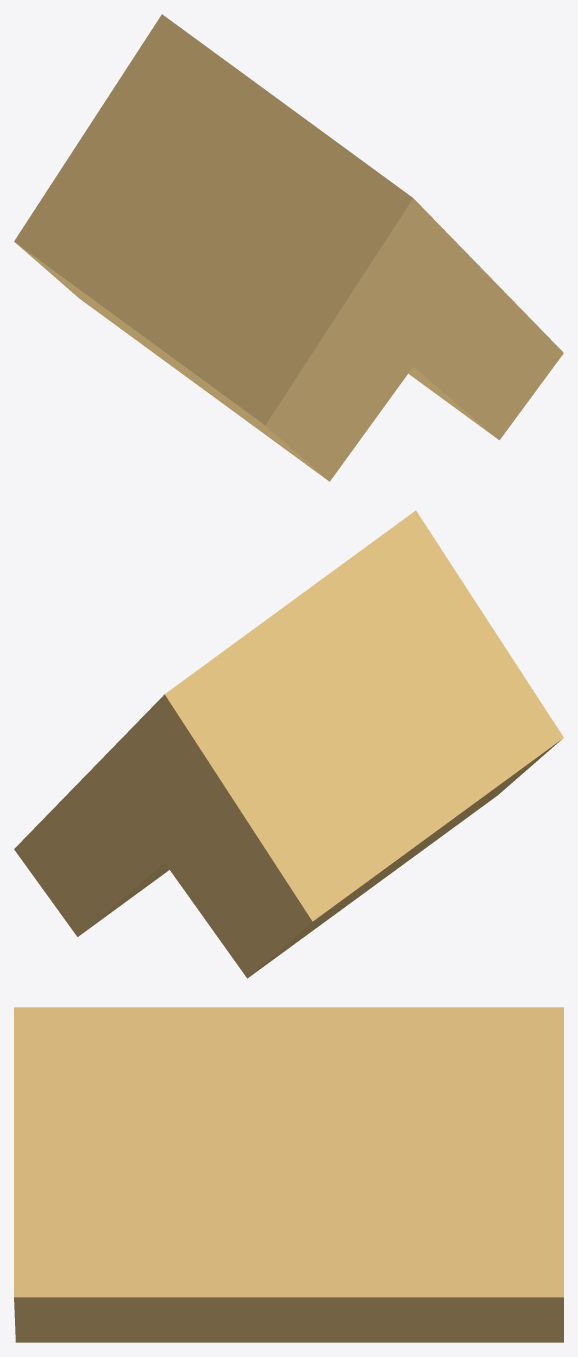
File: BuildingRoofTop0.5m1.fbx
3 views of the same model, one above another, from view 1: azimuth 30°, elevation 25°; view 2: azimuth 150°, elevation 25°; view 3: azimuth 270°, elevation 25° (orthographic). The views are drawn at different scales.
Visible parts, largest first — view 1: building_roof_top_0.5m_1; view 2: building_roof_top_0.5m_1; view 3: building_roof_top_0.5m_1.
Boxes of the visible parts, x1,y1,x2,y2 form: building_roof_top_0.5m_1: [14, 14, 563, 481]; building_roof_top_0.5m_1: [14, 510, 563, 978]; building_roof_top_0.5m_1: [14, 1007, 563, 1342].
Size of the model in its own units: 34.31 by 29 by 50.
